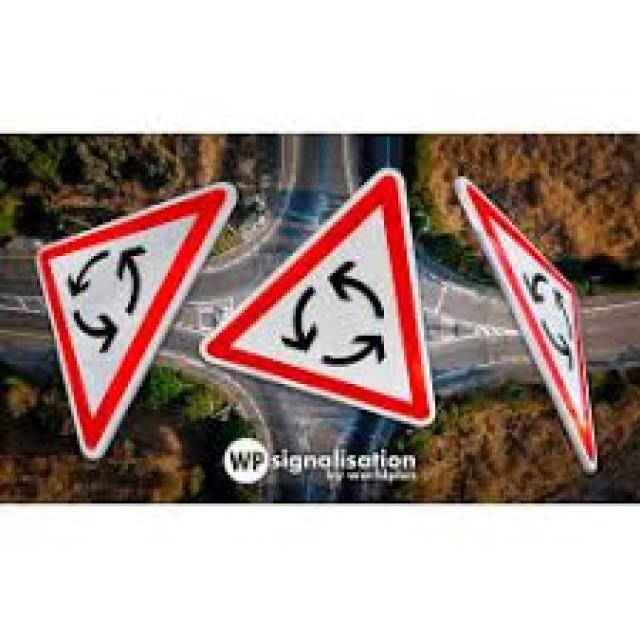SensGiratoire: (200, 169, 443, 428), (32, 180, 235, 465), (456, 169, 595, 479)
